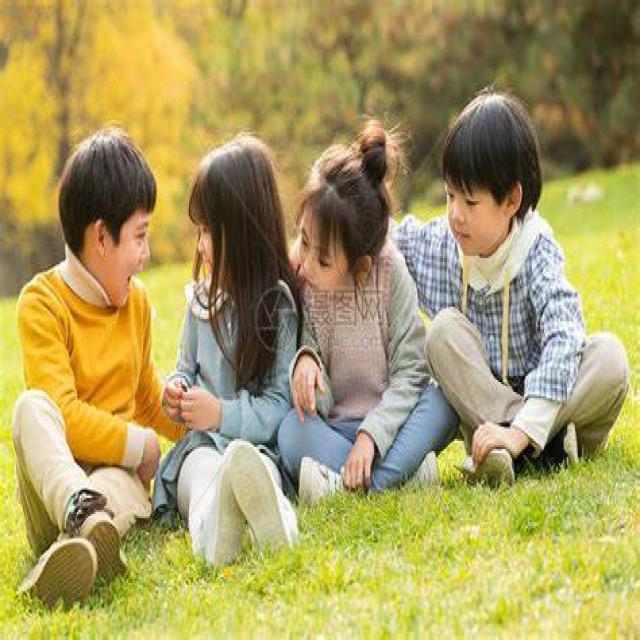sit: (172, 120, 310, 619), (8, 126, 157, 580), (430, 107, 581, 480), (297, 125, 422, 494)
